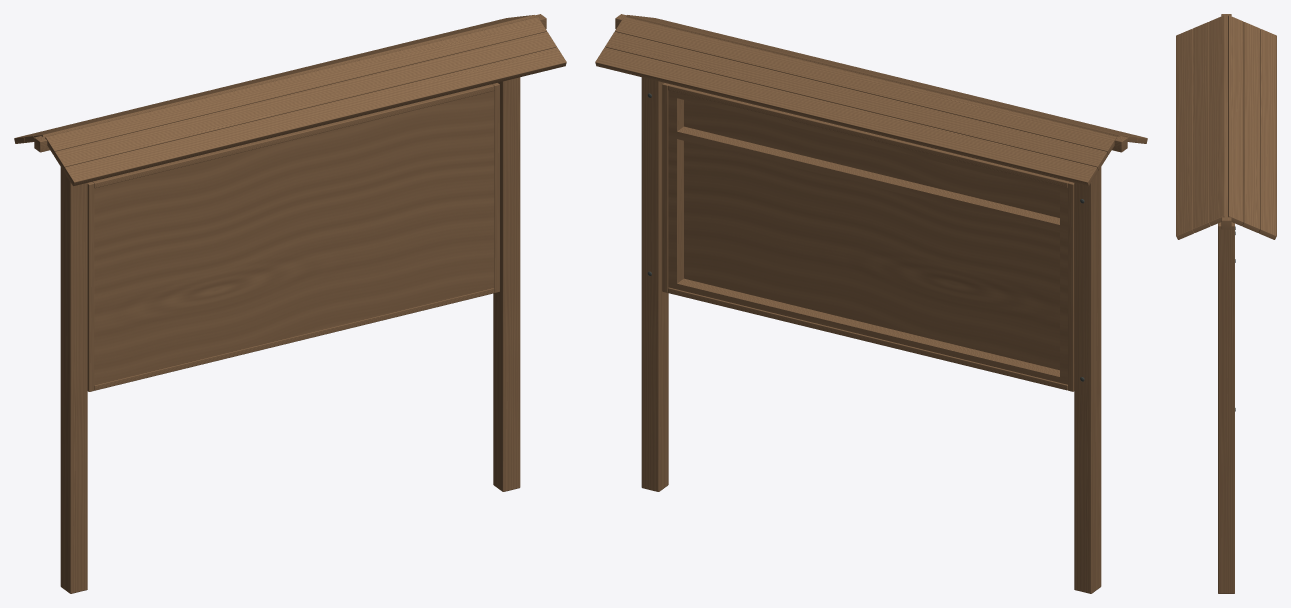
Rendered from PhotoFrame.fbx.
3 renders of one model, left to right at view 1: azimuth 30°, elevation 25°; view 2: azimuth 150°, elevation 25°; view 3: azimuth 270°, elevation 25°, orthographic. The views are drawn at different scales.
Visible parts, largest first — view 1: PhotoFrame; view 2: PhotoFrame; view 3: PhotoFrame.
Part boxes in pixels (x1,y1,x2,y2): PhotoFrame: [14, 14, 566, 593]; PhotoFrame: [595, 14, 1147, 593]; PhotoFrame: [1176, 14, 1276, 593].
Bounding box in the file's own units: 286 × 250 × 58.97.
Materials: 1 (1 with a texture image).
